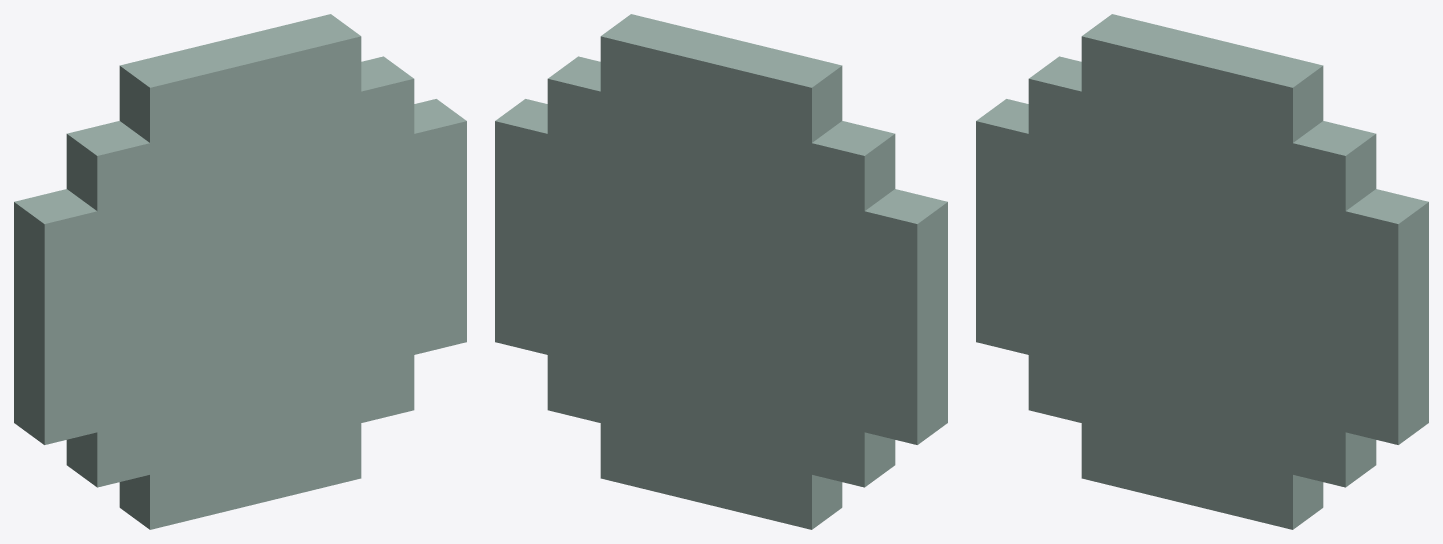
File: Coin_Small_2.dae
3 views of the same model, side by side, from view 1: azimuth 30°, elevation 25°; view 2: azimuth 150°, elevation 25°; view 3: azimuth 330°, elevation 25° (orthographic).
Visible parts, largest first — view 1: Coin_Small_2; view 2: Coin_Small_2; view 3: Coin_Small_2.
Part boxes in pixels (box(x1,y1,x2,y2)): Coin_Small_2: box(14, 14, 466, 529); Coin_Small_2: box(495, 14, 947, 529); Coin_Small_2: box(976, 14, 1428, 529).
Size of the model in its own units: 0.2 by 0.025 by 0.2.
